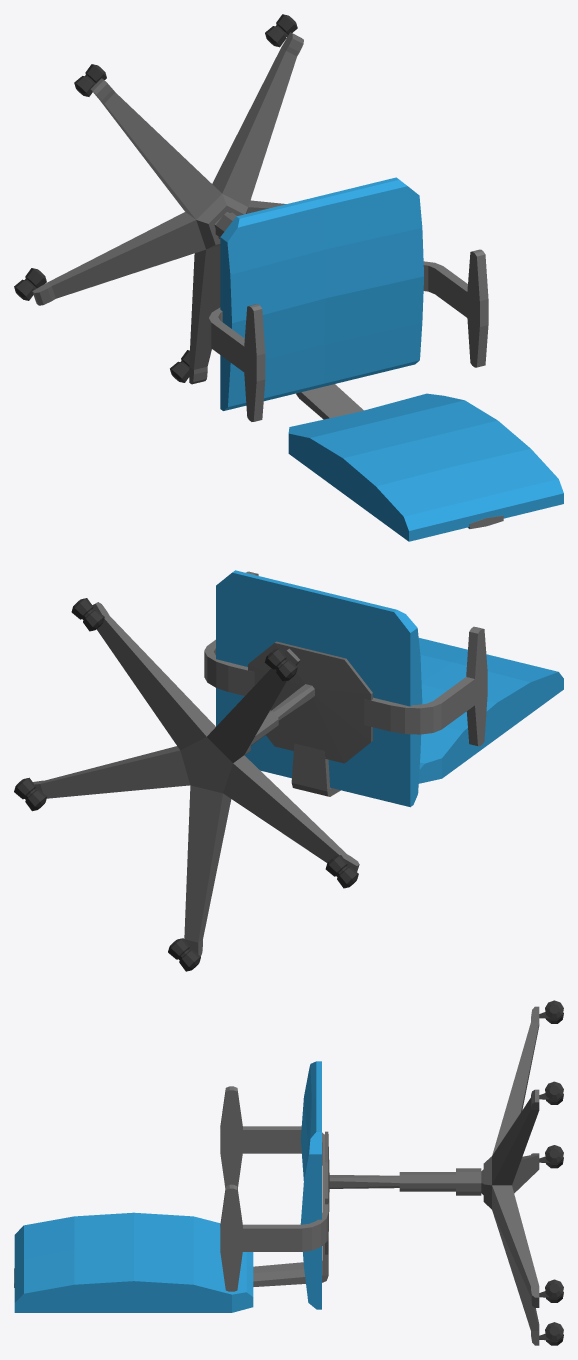
The picture shows the model from 3 angles, top to bottom: view 1: azimuth 30°, elevation 25°; view 2: azimuth 150°, elevation 25°; view 3: azimuth 270°, elevation 25°; orthographic projection. The views are drawn at different scales.
Parts seen in each view (by area): view 1: Chair; view 2: Chair; view 3: Chair.
Part boxes in pixels (x1,y1,x2,y2): Chair: (14, 14, 563, 541); Chair: (14, 570, 563, 971); Chair: (14, 1000, 563, 1345).
Bounding box in the file's own units: 3.23 × 3.14 × 5.06.
Materials: 1 (1 with a texture image).
